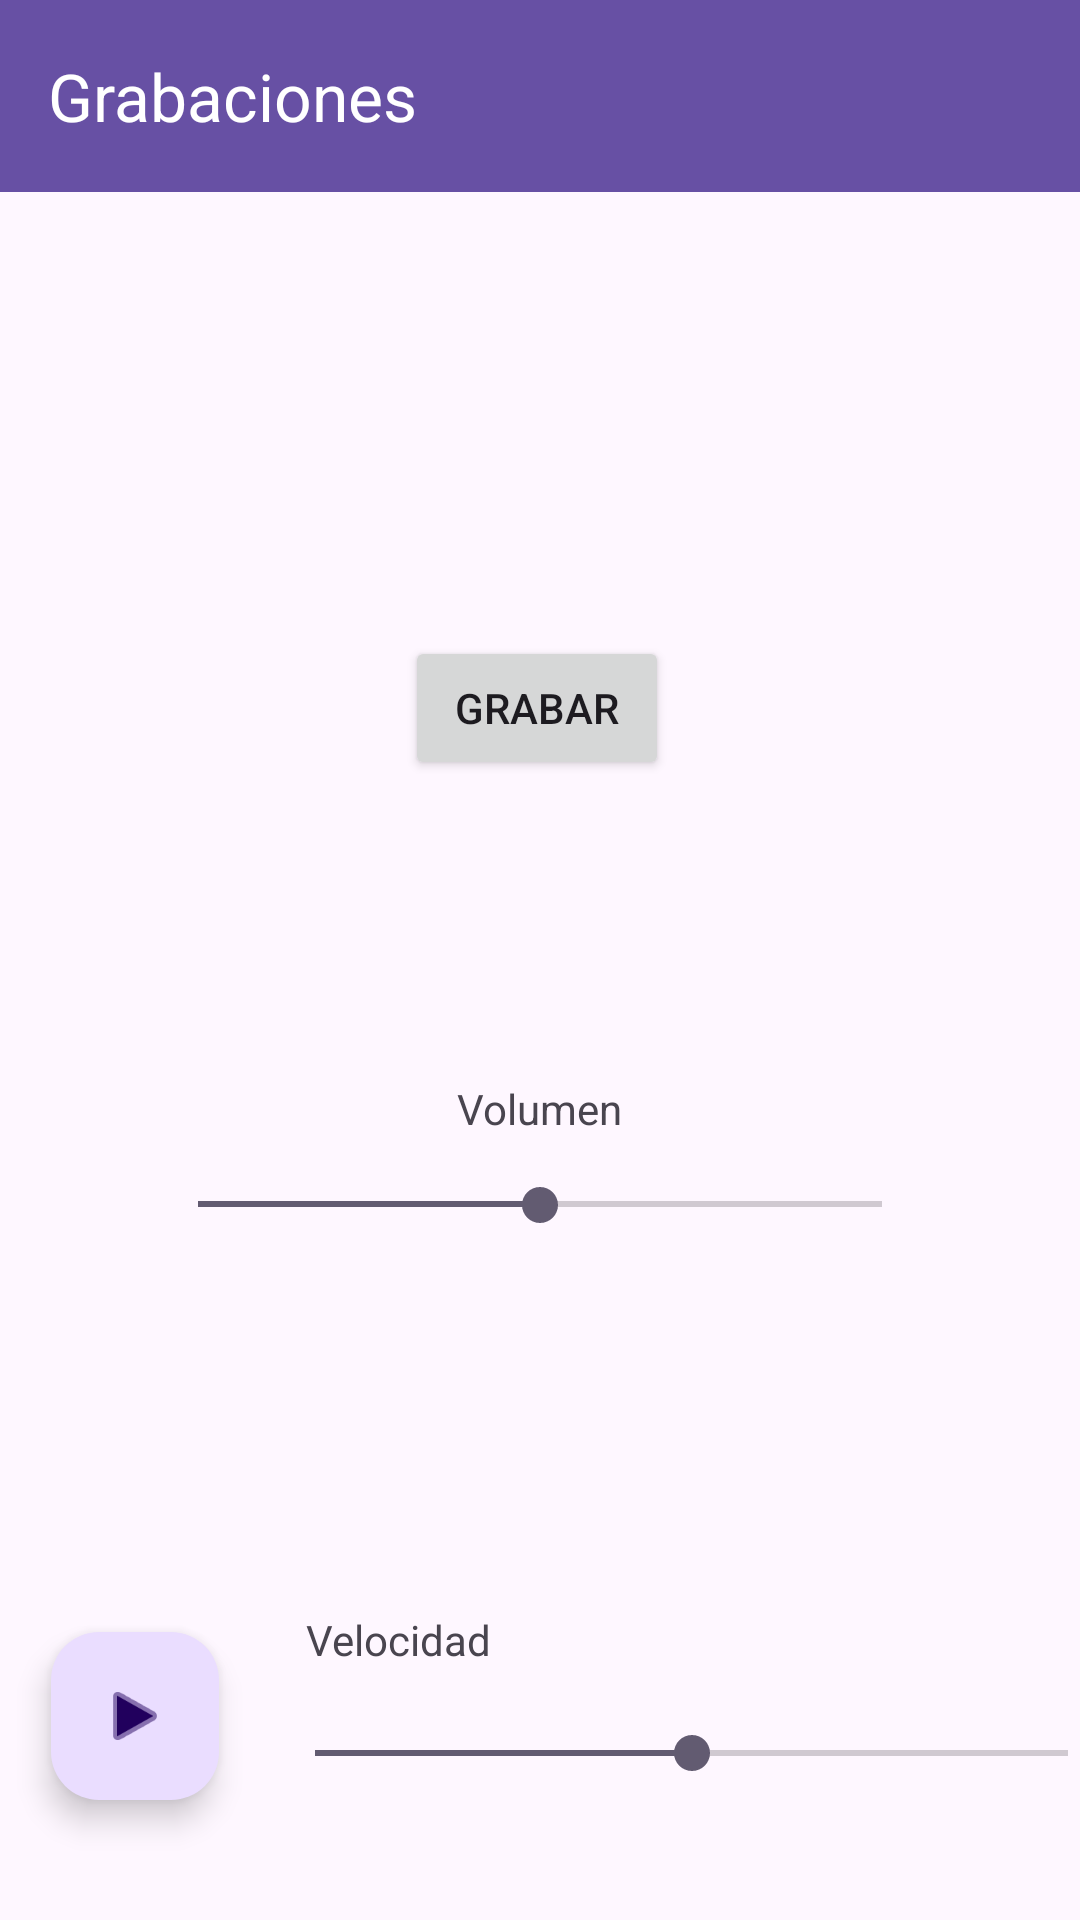

Icon click points for this 1080px x 1920px phone screenshot, format (x,y):
play: (135,1716)
